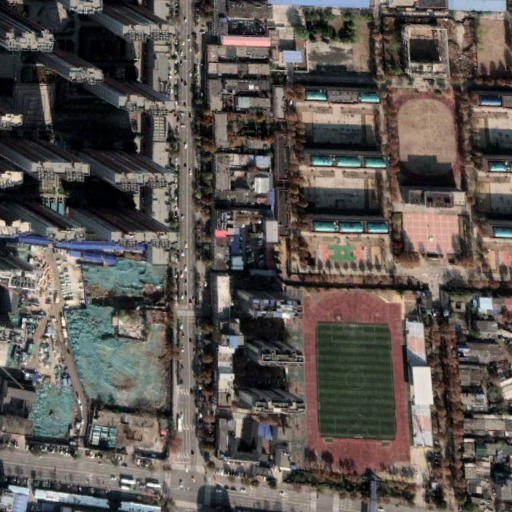cw: (29, 254, 173, 451)
